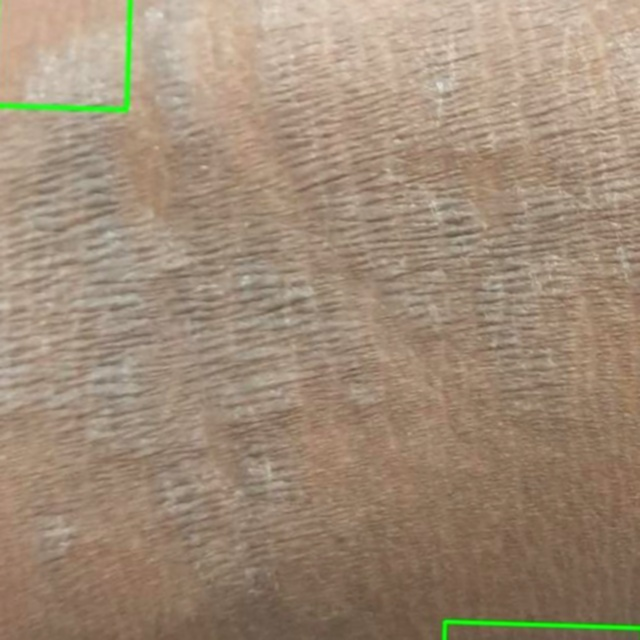Tinea Corporis: (0, 0, 130, 109)
